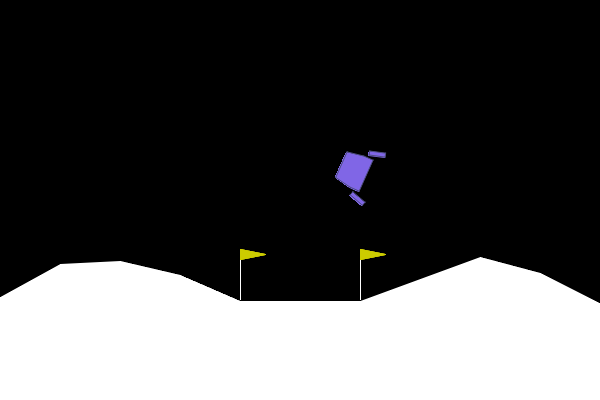lander: (327, 137, 388, 208)
